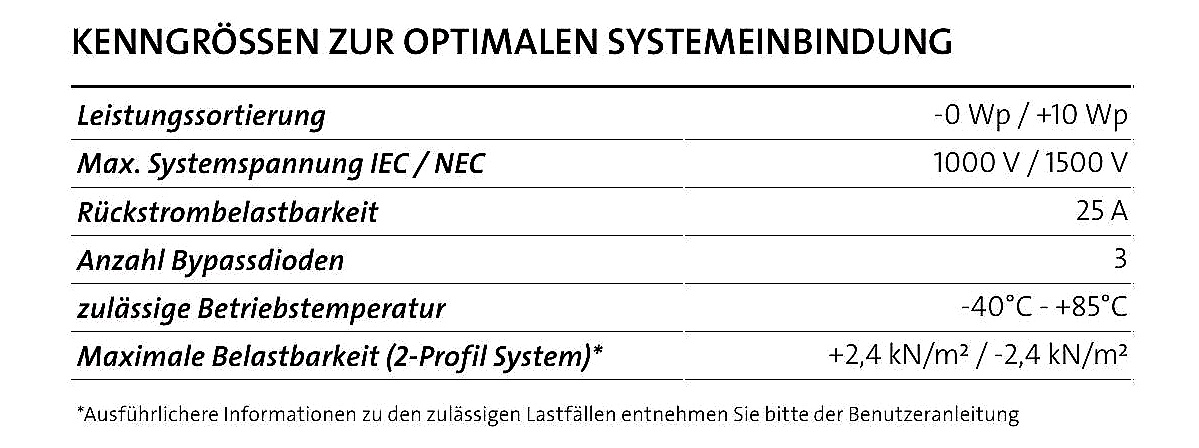table: (58, 81, 1150, 434)
table column: (68, 85, 681, 426), (680, 86, 1144, 426)
table name: (63, 14, 1145, 63)
table row: (66, 87, 1145, 139), (63, 331, 1144, 381), (63, 139, 1145, 188), (63, 235, 1145, 284), (64, 188, 1145, 234), (65, 383, 1145, 427), (64, 284, 1141, 328)
table row header: (65, 85, 680, 425)
table spanning cell: (73, 387, 1141, 426)
